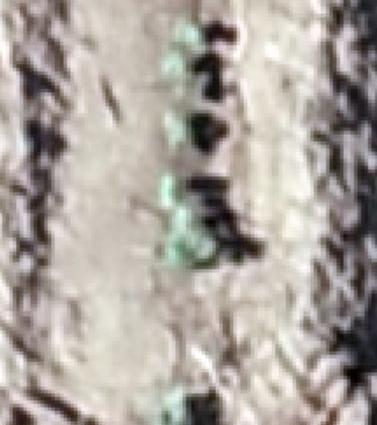cotton: (171, 232, 213, 263), (176, 210, 203, 235), (177, 23, 201, 44), (164, 56, 188, 75), (171, 123, 190, 146), (165, 174, 181, 201)
